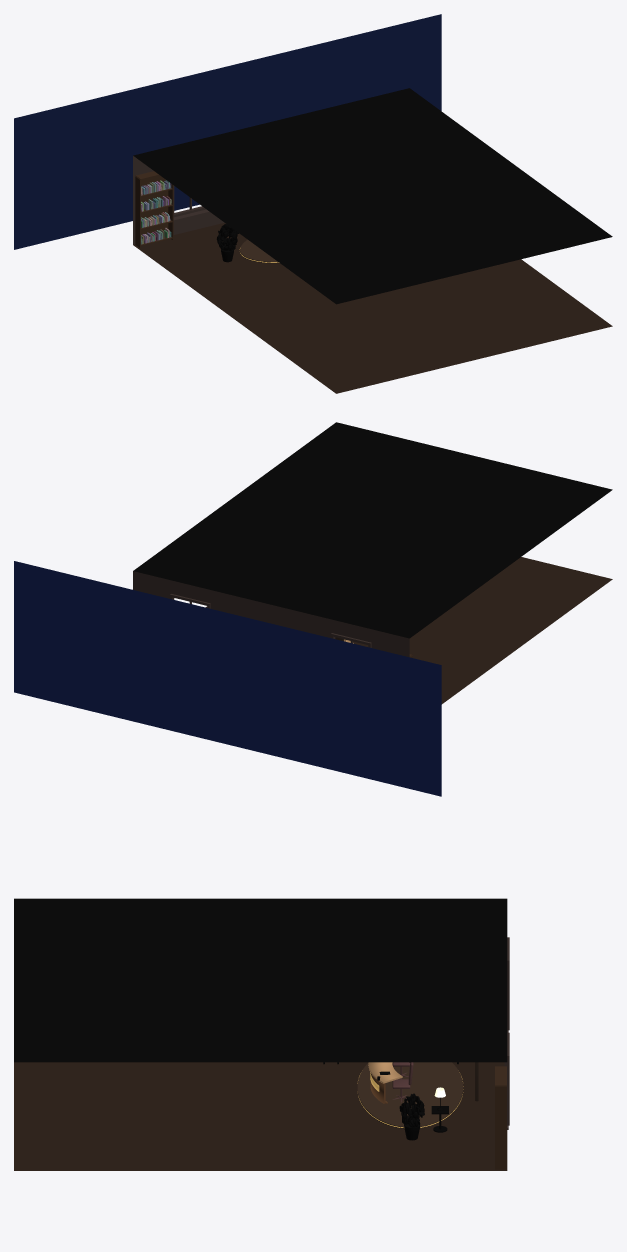
The model's file is newsroom-goodnight.glb.
3 renders of one model, top to bottom at view 1: azimuth 30°, elevation 25°; view 2: azimuth 150°, elevation 25°; view 3: azimuth 270°, elevation 25°, orthographic. The views are drawn at different scales.
Parts seen in each view (by area): view 1: news_ceiling, news_sky, news_floor, news_shelves, news_backwall, news_books, news_plants; view 2: news_sky, news_ceiling, news_floor, news_backwall; view 3: news_ceiling, news_floor, news_riser, news_shelves, news_plants, news_backwall.
Part boxes in pixels (x1,y1,x2,y2): news_ceiling: (133,88,612,304); news_sky: (14,14,441,249); news_floor: (133,222,612,393); news_shelves: (135,171,173,248); news_backwall: (133,156,224,244); news_books: (141,180,171,244); news_plants: (216,224,237,262); news_sky: (14,561,441,796); news_ceiling: (133,422,612,638); news_floor: (205,557,612,704); news_backwall: (133,571,409,657); news_ceiling: (14,898,507,1062); news_floor: (14,1062,507,1170); news_riser: (357,1062,463,1128); news_shelves: (495,1066,506,1169); news_plants: (399,1093,424,1140); news_backwall: (504,937,509,1129).
Bounding box in the file's own units: 17 × 5 × 17.
